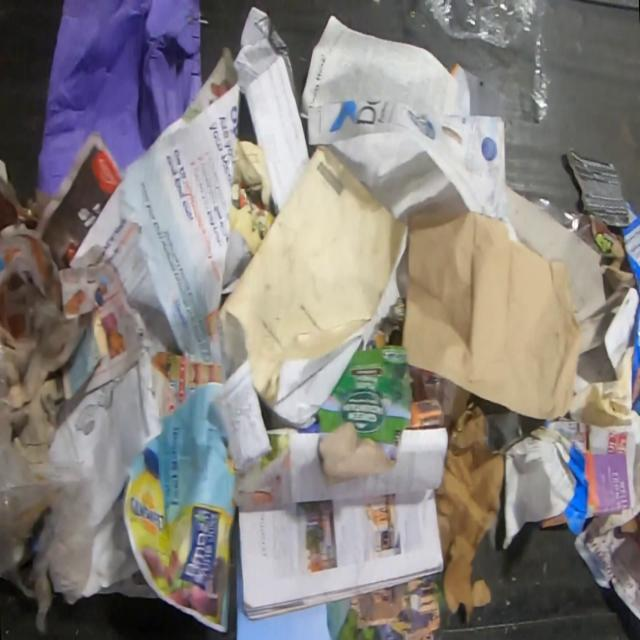cardboard: (37, 0, 202, 196), (501, 421, 590, 549), (316, 345, 412, 446), (566, 147, 630, 227), (620, 201, 640, 417)
soft_plastic: (0, 439, 96, 632), (422, 0, 551, 121)
